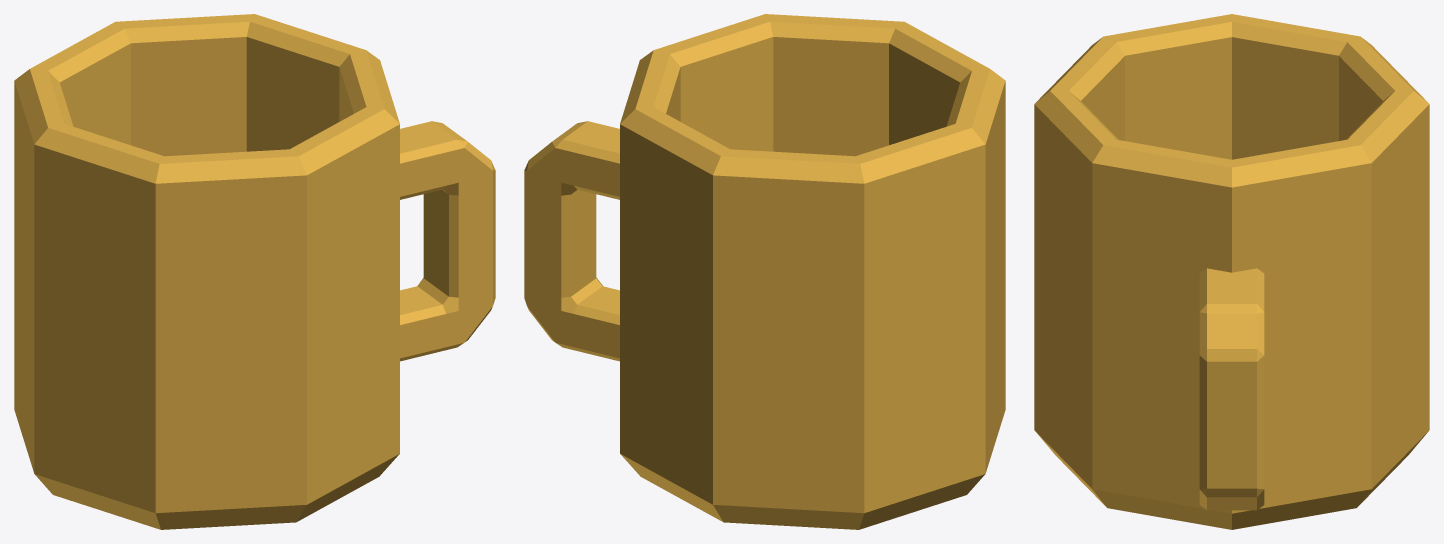
The model's file is Mug.glb.
3 renders of one model, left to right at view 1: azimuth 30°, elevation 25°; view 2: azimuth 150°, elevation 25°; view 3: azimuth 270°, elevation 25°, orthographic.
Parts seen in each view (by area): view 1: Mug; view 2: Mug; view 3: Mug.
Boxes of the visible parts, x1=… form: Mug: x1=14, y1=14, x2=495, y2=529; Mug: x1=524, y1=14, x2=1005, y2=529; Mug: x1=1034, y1=14, x2=1429, y2=529.
Bounding box in the file's own units: 67.99 × 54.33 × 52.41.
